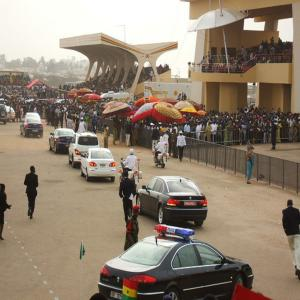Vehicle-registration-plate: (112, 292, 123, 300), (185, 202, 198, 207)
